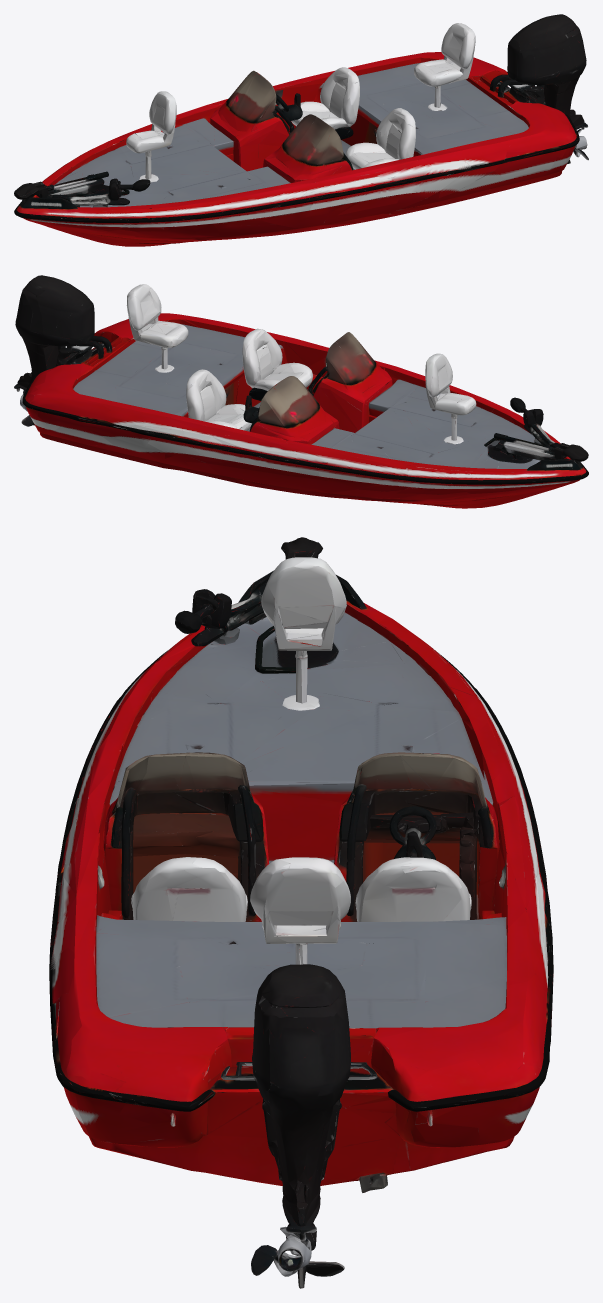
Rendered from boat.glb.
3 renders of one model, top to bottom at view 1: azimuth 30°, elevation 25°; view 2: azimuth 150°, elevation 25°; view 3: azimuth 270°, elevation 25°, orthographic. The views are drawn at different scales.
Parts seen in each view (by area): view 1: geometry_0; view 2: geometry_0; view 3: geometry_0.
Boxes of the visible parts, x1,y1,x2,y2 form: geometry_0: (14,14,588,246); geometry_0: (14,275,588,508); geometry_0: (49,537,553,1288).
Bounding box in the file's own units: 1.9 × 0.5358 × 0.7292.
Materials: 1 (1 with a texture image).
